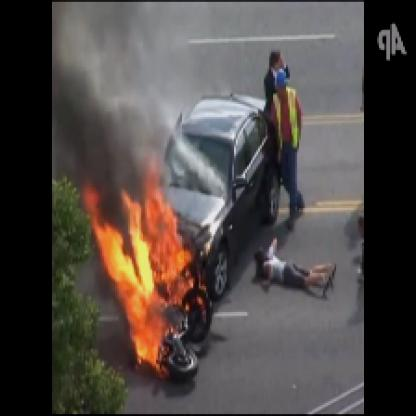Fire: (93, 172, 213, 380)
Smoke: (54, 4, 161, 182)
